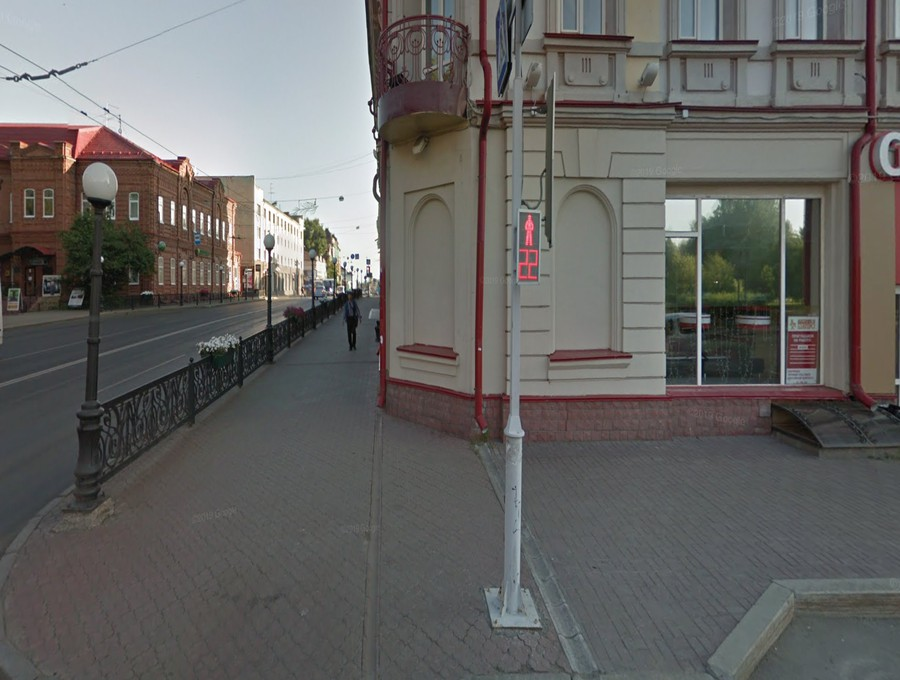Traffic Light-red: (508, 208, 544, 283)
